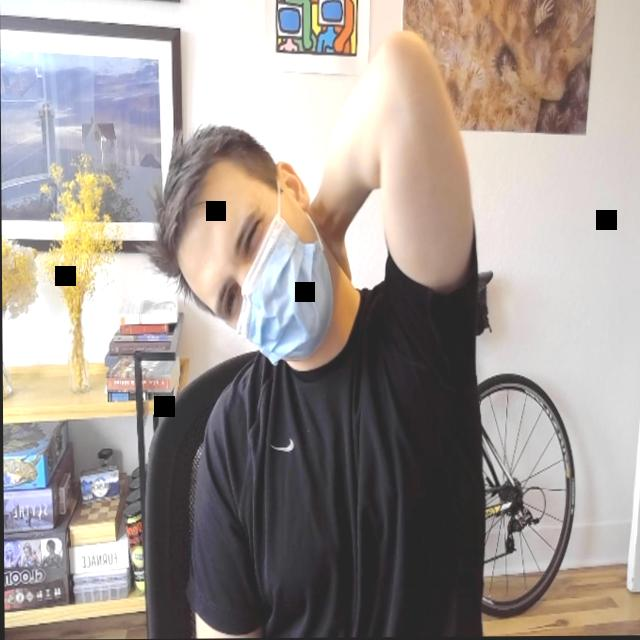Mask: (174, 162, 332, 368)
